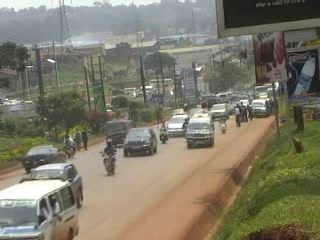Car: (25, 161, 85, 209), (21, 145, 70, 173), (121, 126, 159, 158), (164, 113, 193, 139), (206, 102, 230, 120), (169, 106, 188, 118), (224, 101, 237, 114), (236, 98, 250, 107)
Motorcycle: (100, 140, 119, 177), (61, 130, 78, 158), (156, 120, 170, 146), (180, 117, 194, 140), (216, 112, 227, 136)
